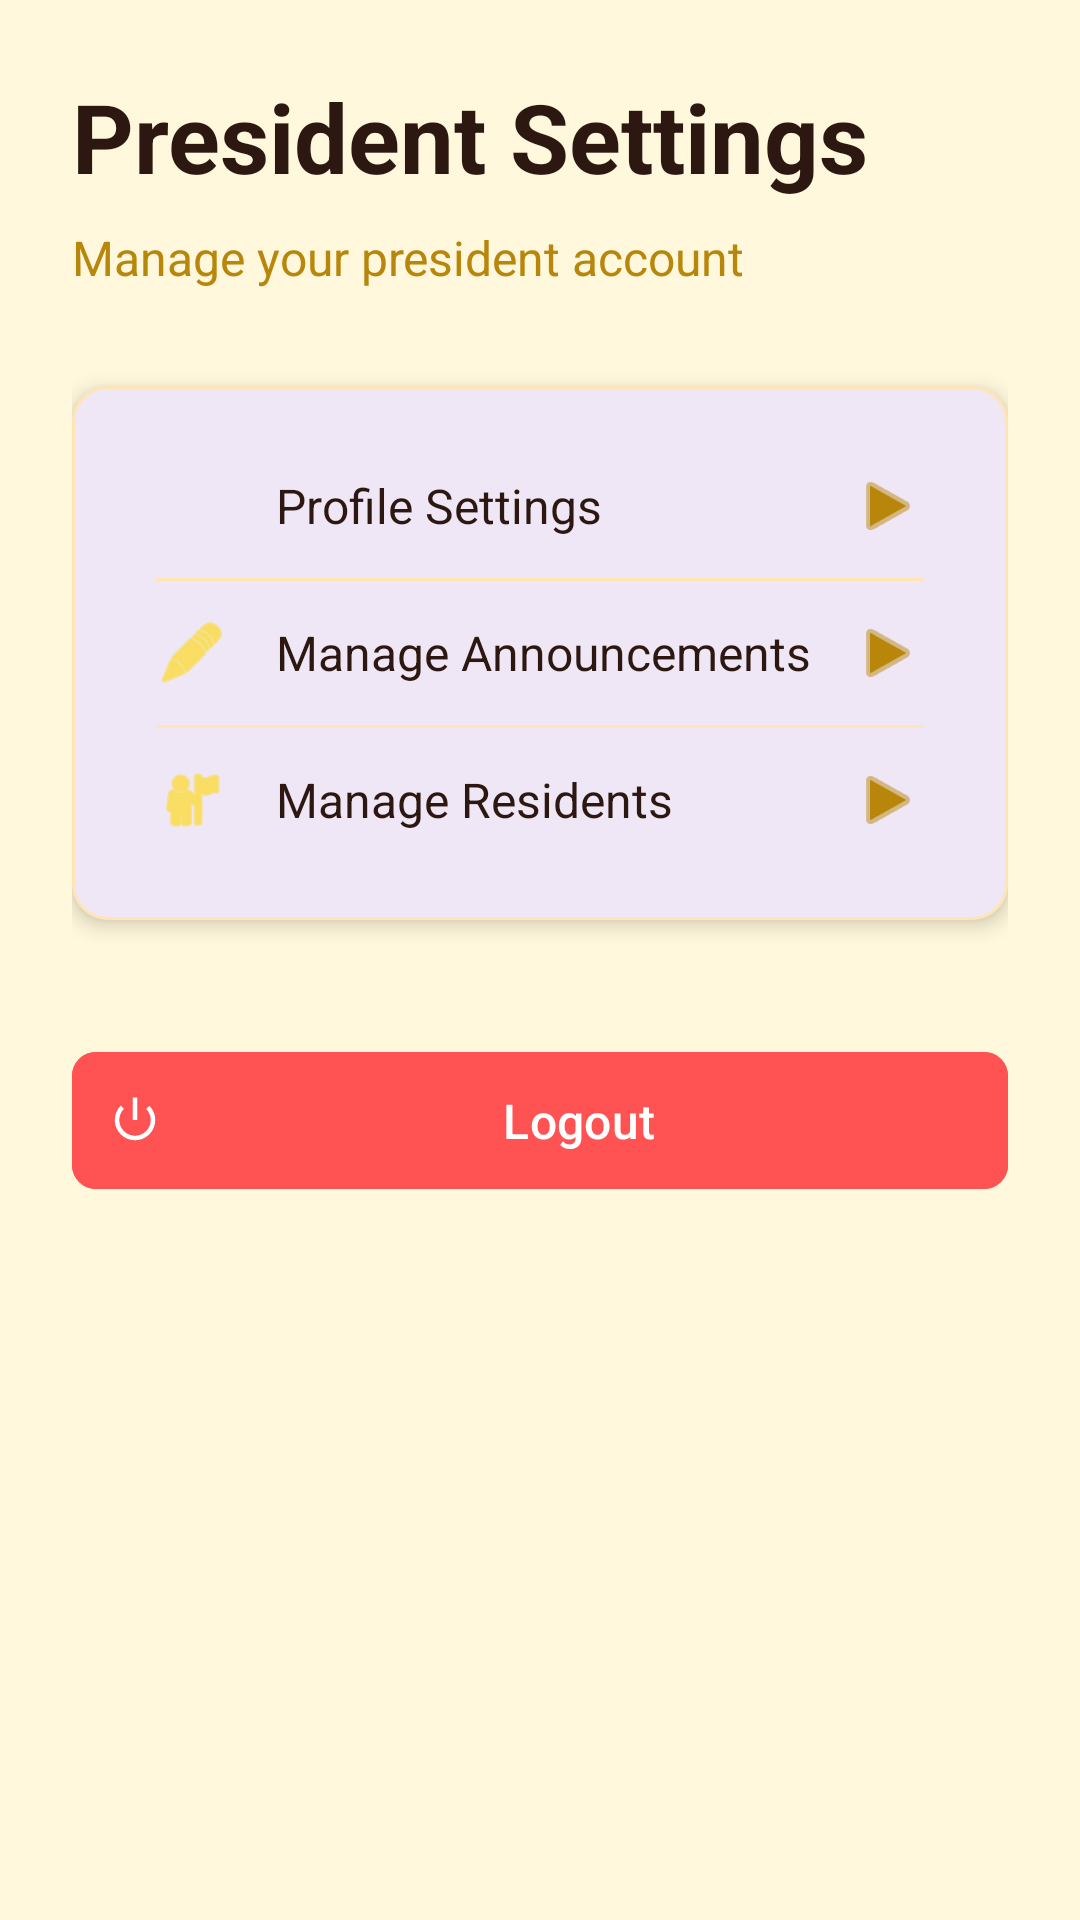

Screen size 1080 x 1920. Icon name, then its box in pixels as bbox=(x1, y1, x2, y2):
edit: bbox=(161, 622, 222, 683)
play: bbox=(866, 482, 910, 530), bbox=(866, 629, 910, 677), bbox=(866, 776, 910, 824)
